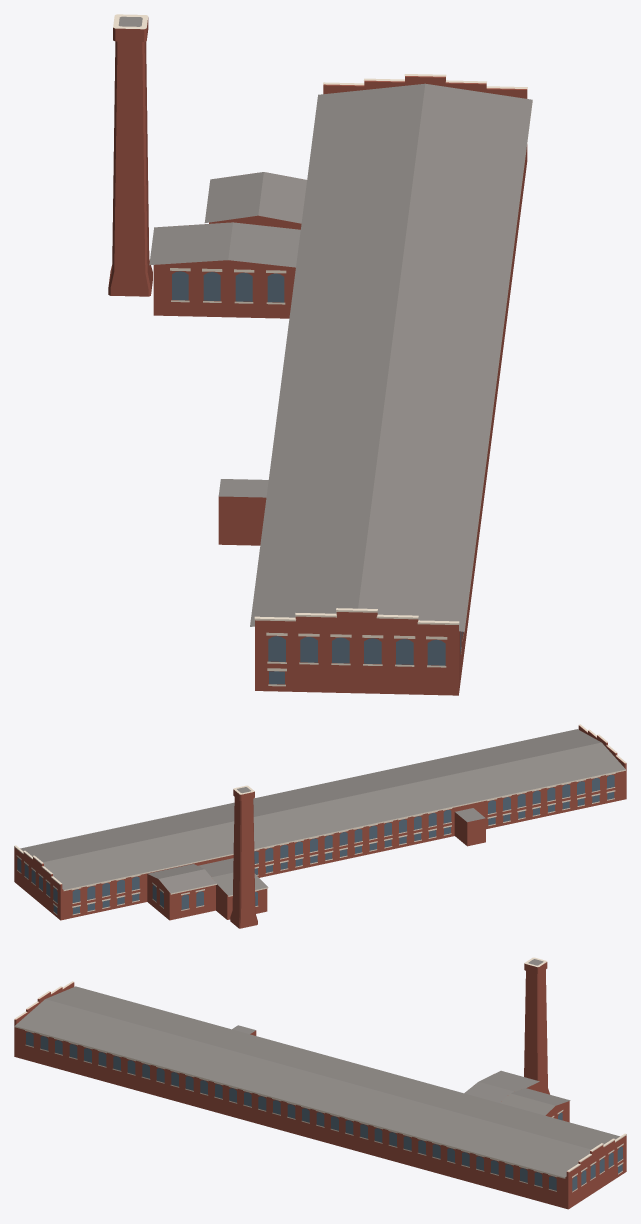
3 views of the same model, one above another, from view 1: azimuth 30°, elevation 25°; view 2: azimuth 150°, elevation 25°; view 3: azimuth 270°, elevation 25° (orthographic). The views are drawn at different scales.
Parts seen in each view (by area): view 1: atherton-cotton-mill; view 2: atherton-cotton-mill; view 3: atherton-cotton-mill.
Part boxes in pixels (x1,y1,x2,y2): atherton-cotton-mill: [108, 14, 532, 695]; atherton-cotton-mill: [14, 724, 626, 928]; atherton-cotton-mill: [14, 957, 626, 1209].
Size of the model in its own units: 97.87 by 33 by 133.
